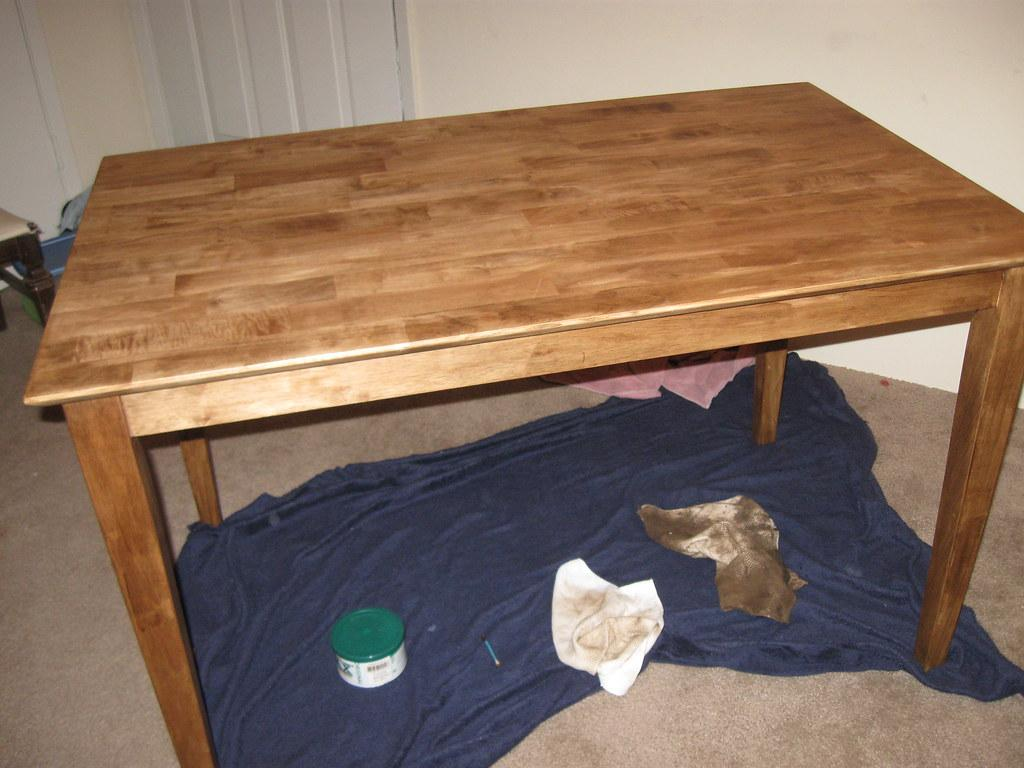table: (13, 68, 1024, 768)
